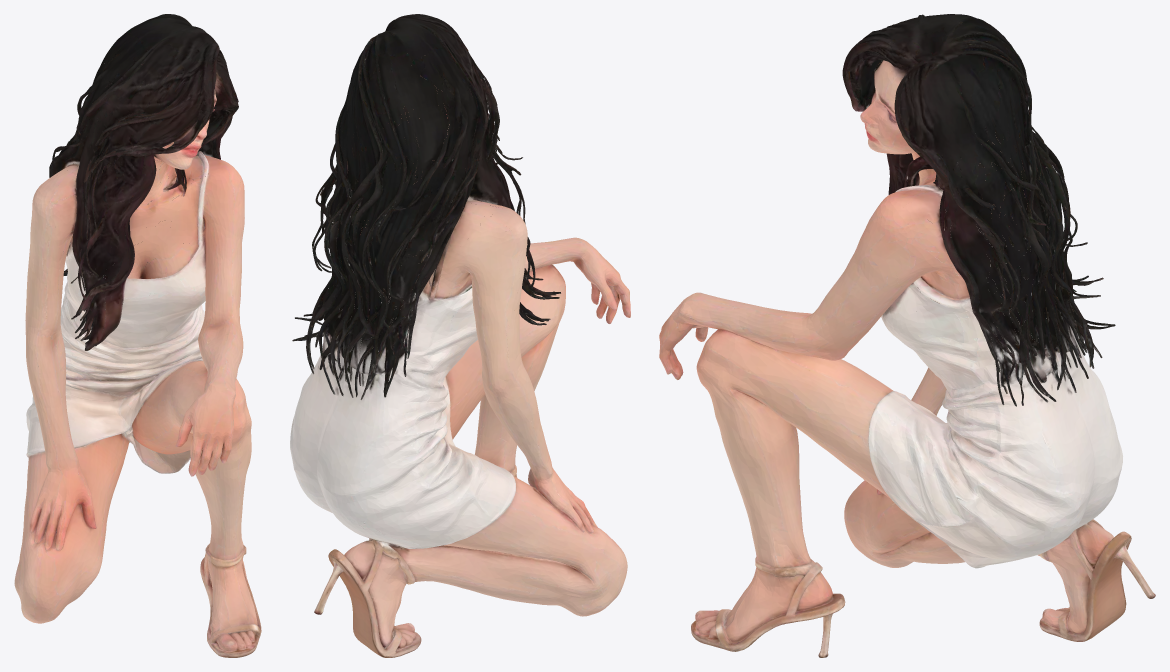
File: squat-fast.glb
The picture shows the model from 3 angles, left to right: view 1: azimuth 30°, elevation 25°; view 2: azimuth 150°, elevation 25°; view 3: azimuth 270°, elevation 25°; orthographic projection. The views are drawn at different scales.
Parts seen in each view (by area): view 1: Mesh_0_modddif_material_0_0 (×2); view 2: Mesh_0_modddif_material_0_0 (×2); view 3: Mesh_0_modddif_material_0_0 (×2).
Part boxes in pixels (bbox=[...]): Mesh_0_modddif_material_0_0 (×2): bbox=[14, 14, 261, 657]; Mesh_0_modddif_material_0_0 (×2): bbox=[290, 14, 630, 657]; Mesh_0_modddif_material_0_0 (×2): bbox=[659, 14, 1155, 657].
Size of the model in its own units: 0.4859 by 1 by 0.7056.
Materials: 1 (1 with a texture image).
